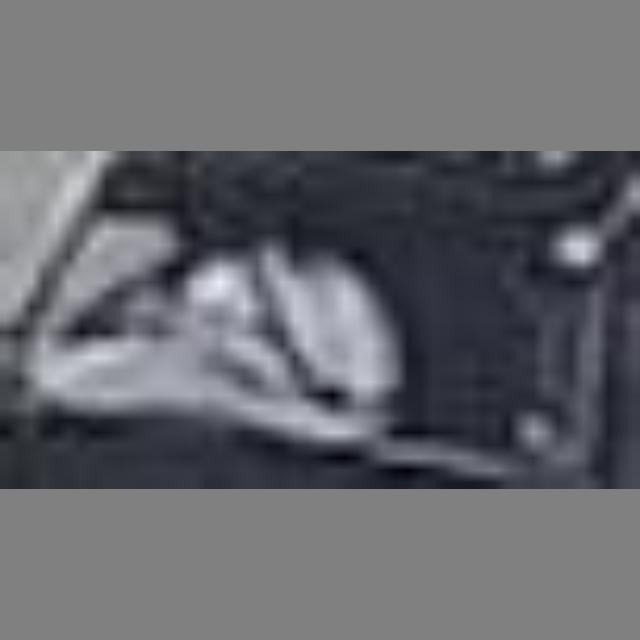pakai: (151, 214, 389, 427)
